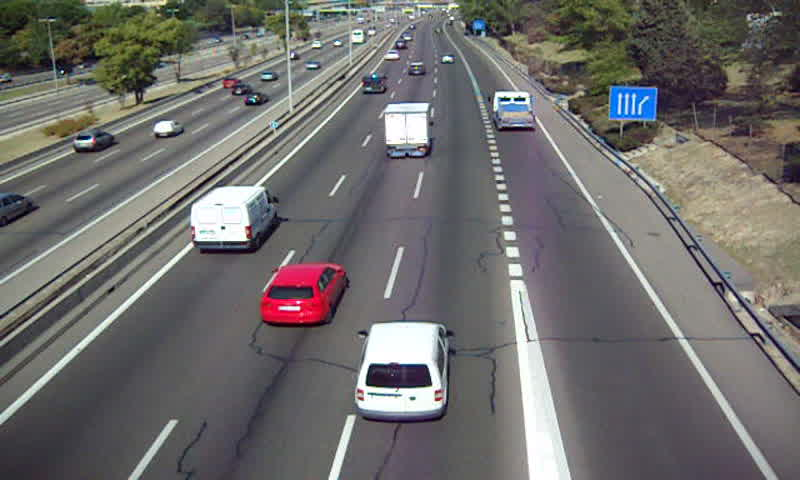car: (355, 322, 452, 419), (258, 262, 345, 325), (407, 61, 426, 78), (440, 53, 456, 66), (384, 48, 399, 61)
small-truck: (382, 102, 432, 158), (491, 91, 535, 130)
van: (192, 186, 278, 253), (360, 73, 387, 96)
